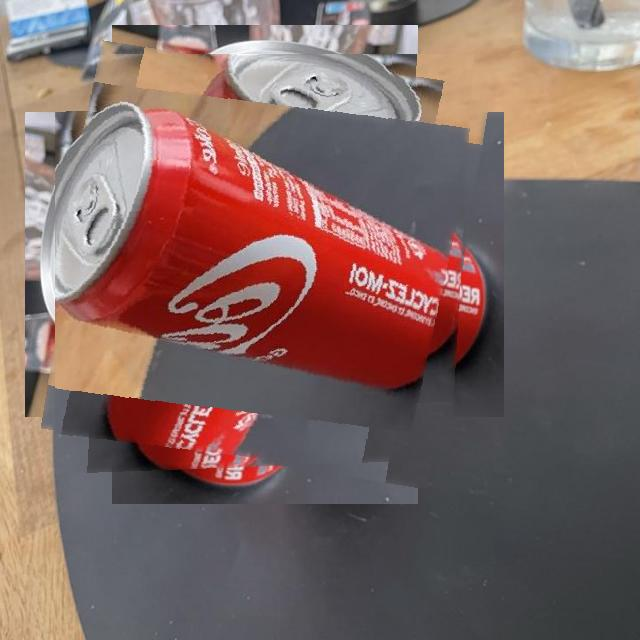recyclable: (55, 54, 475, 475)
